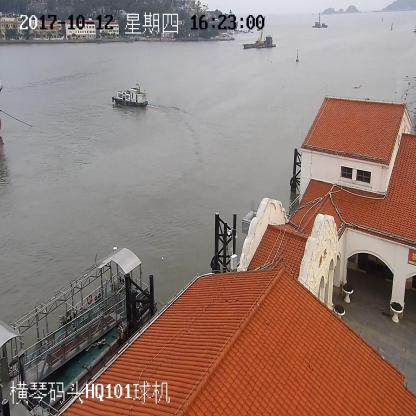Fishing Boat: (113, 84, 148, 109)
